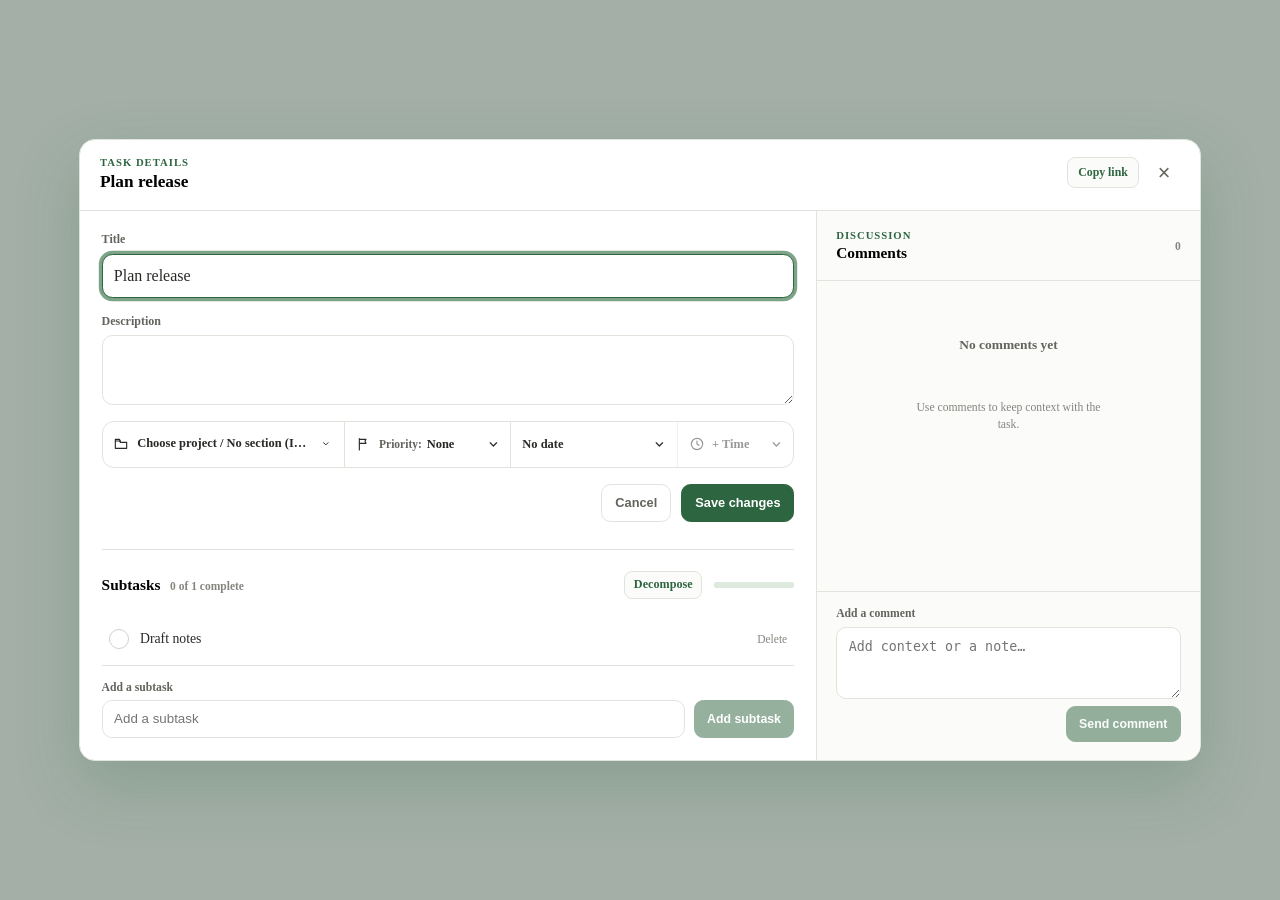
Test: TaskEditorModal relationships › deletes a subtask with its observed version and keeps the editor open
The width and height of the screenshot is (1280, 900).
Expected: the text "Draft notes" is shown, 140,631 -> 202,646
Click the button "Delete" at (772, 639), box 757,630 -> 787,649
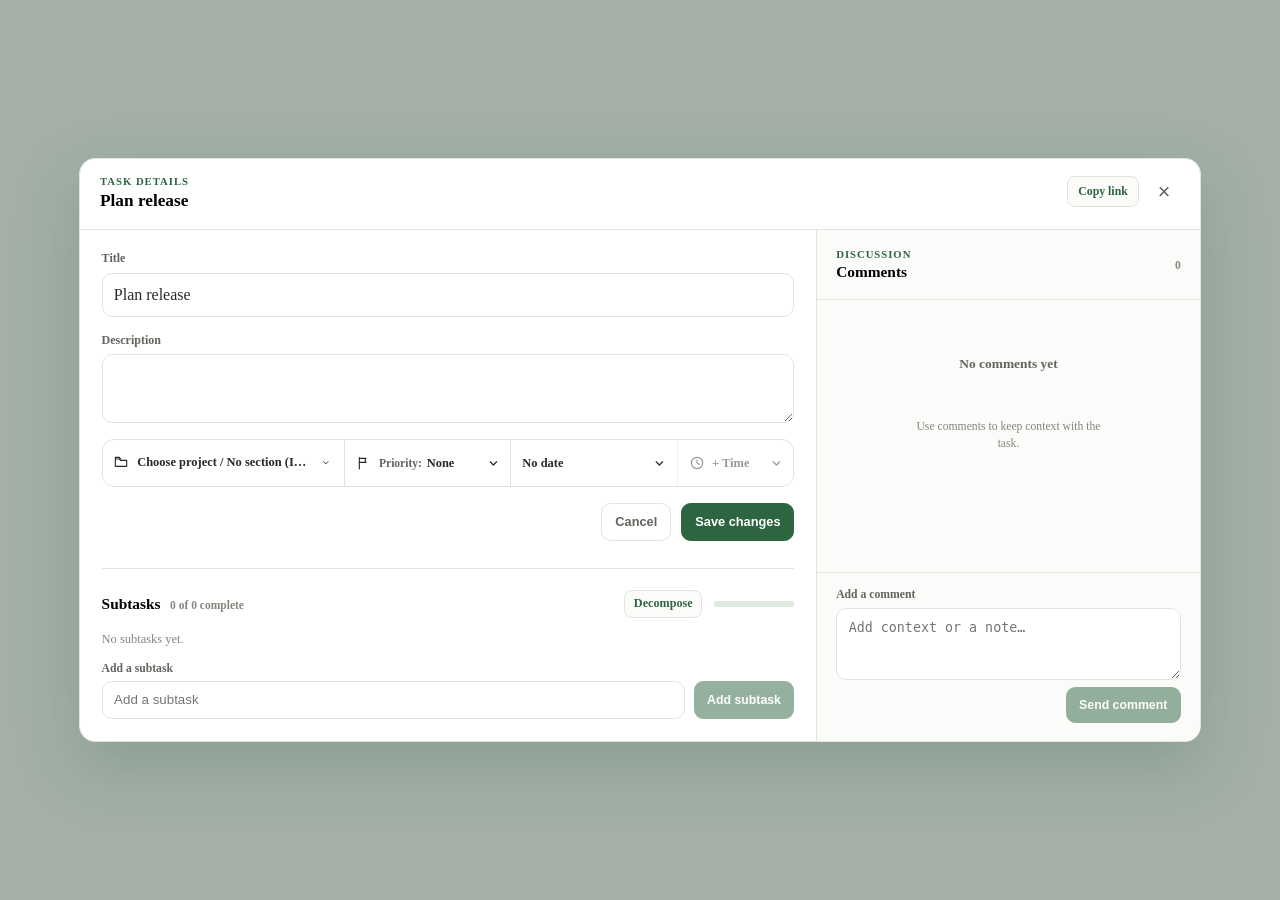
Now the text "0 of 0 complete" is shown, box 170,599 -> 244,611
